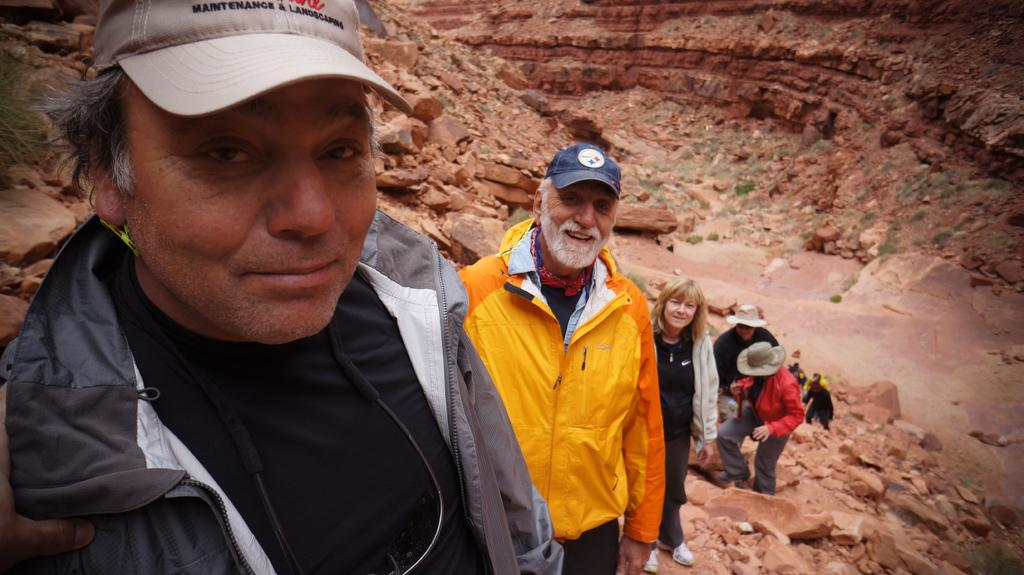Hat: (90, 0, 416, 116), (546, 142, 624, 202), (738, 340, 788, 379), (727, 302, 769, 330)
